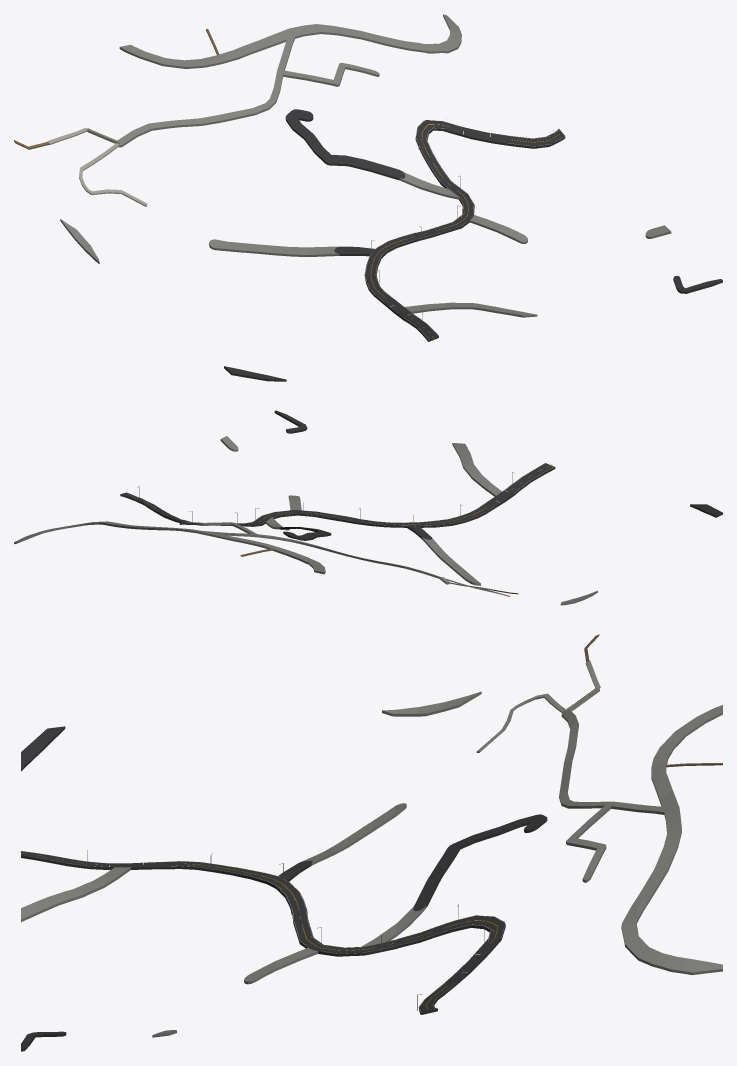
The picture shows the model from 3 angles, top to bottom: view 1: azimuth 30°, elevation 25°; view 2: azimuth 150°, elevation 25°; view 3: azimuth 270°, elevation 25°; orthographic projection. The views are drawn at different scales.
Size of the model in its own units: 294 by 69.07 by 294.
